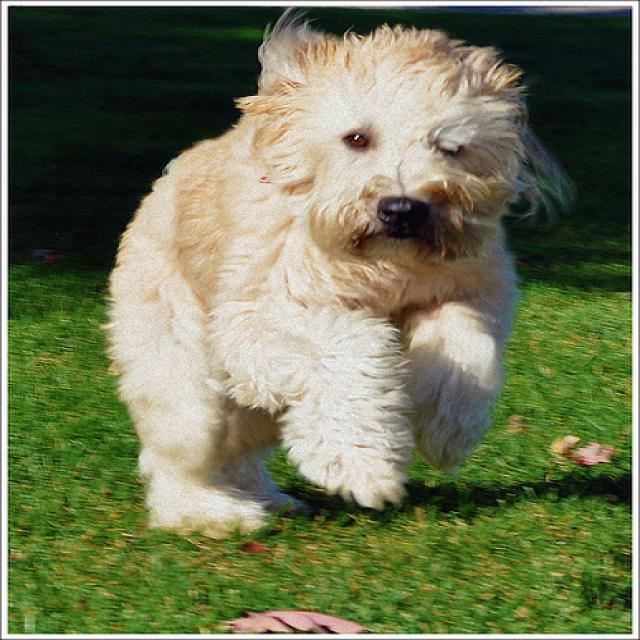dog-wheaten_terrier: (94, 1, 595, 544)
